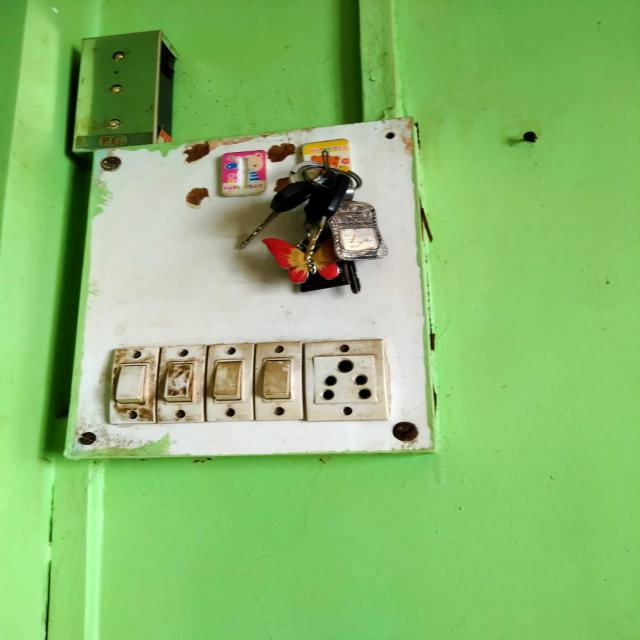Switch Board: (64, 114, 442, 458)
